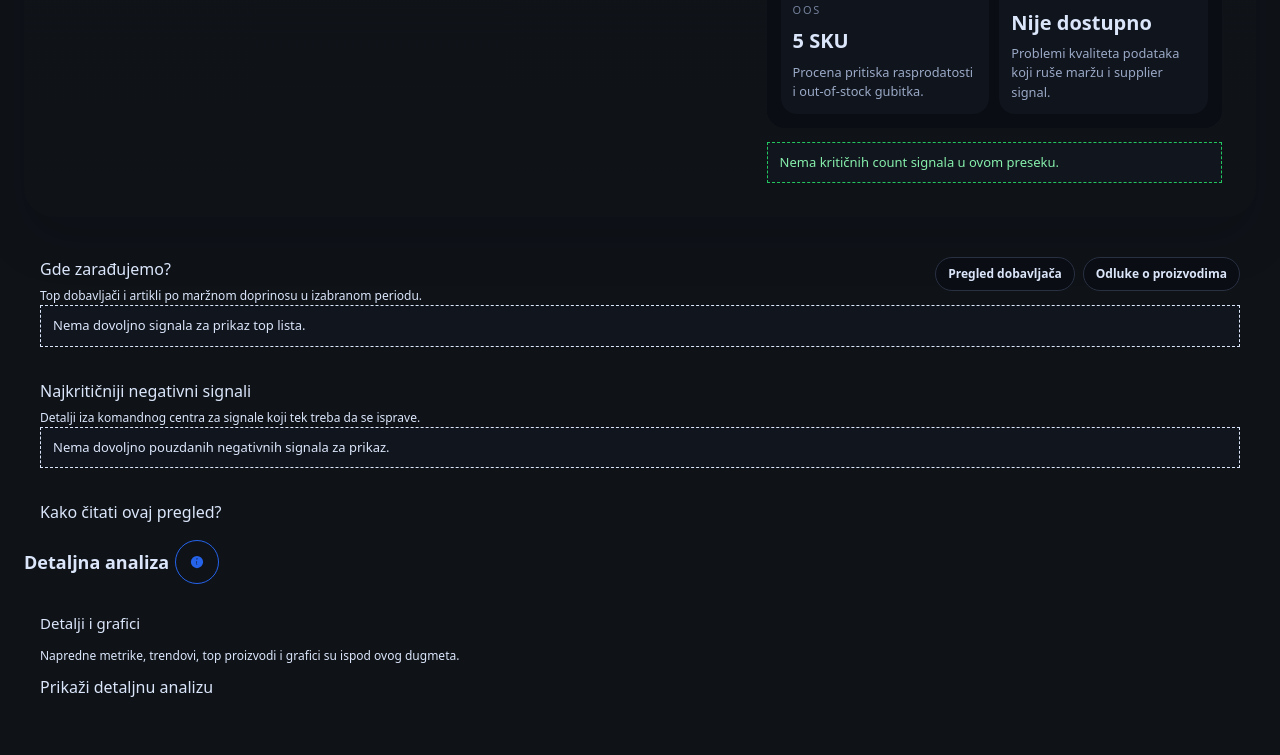
Test: AnalyticsDashboard table system › excludes unknown/null trends from top gainers list
(page scrolled)
Click the button "Prikaži detaljnu analizu" at point(127, 687), box left=40, top=675, right=213, bottom=699
(page scrolled)
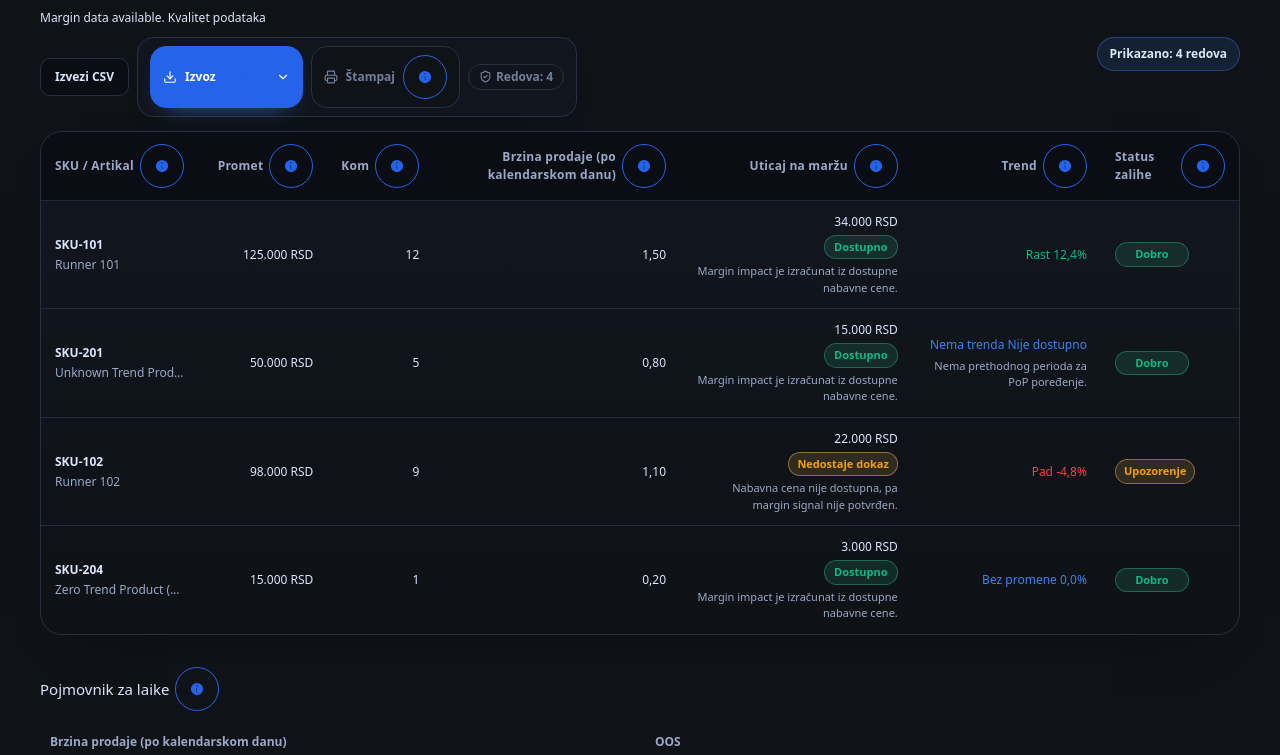
Check: the text "Unknown Trend Product" is shown, box left=55, top=364, right=190, bottom=382
Check: the text "Unknown Trend Product" shows "Nema trenda", box left=930, top=336, right=1004, bottom=353
